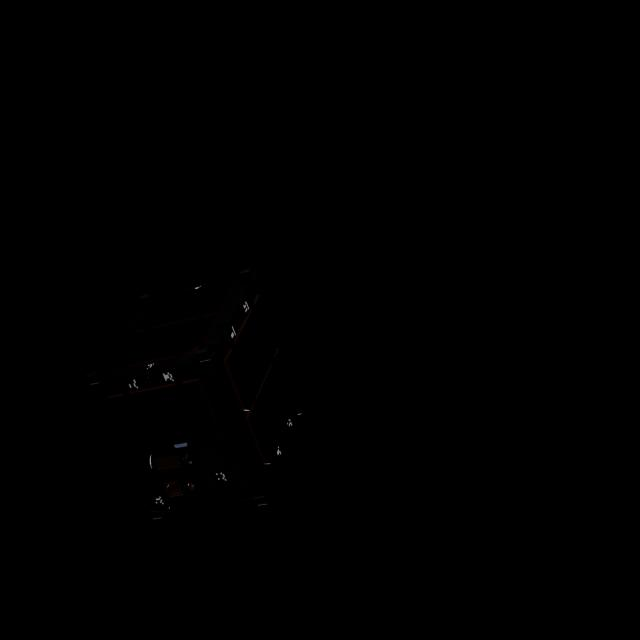satellite: (101, 286, 323, 509)
